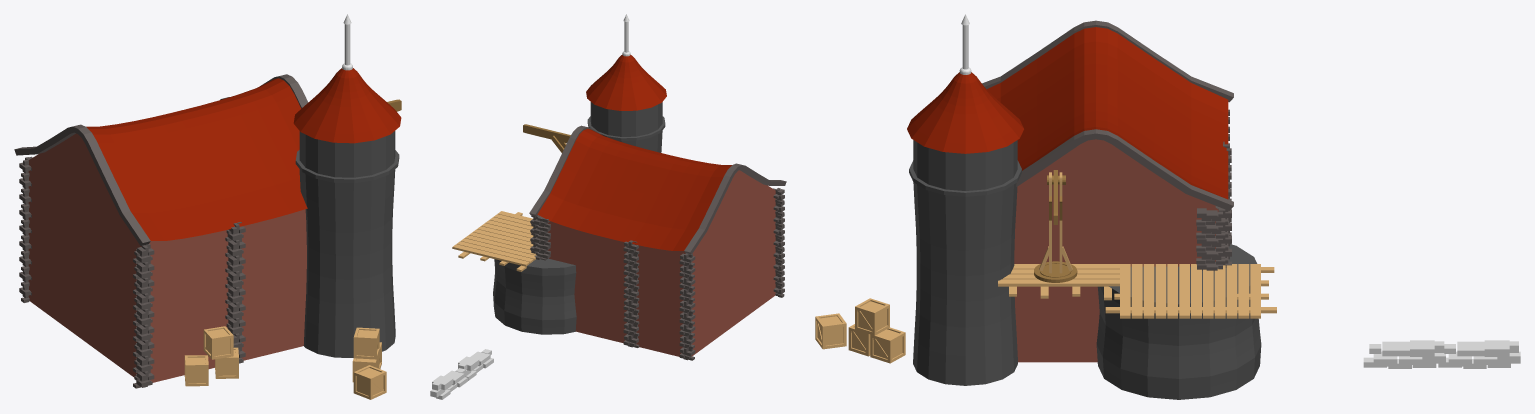
Rendered from Storage_building.fbx.
3 views of the same model, side by side, from view 1: azimuth 30°, elevation 25°; view 2: azimuth 150°, elevation 25°; view 3: azimuth 270°, elevation 25° (orthographic). The views are drawn at different scales.
Parts seen in each view (by area): view 1: Cube, Cube.001, Cylinder, Cylinder.004, Cube.002, Cube.008, Cube.009, Cube.007, Cube.014, Cube.017, Cube.012, Cube.015 (+2 smaller); view 2: Cube, Cube.001, Cylinder.002, Cylinder.004, Cube.018, Cylinder, Cube.002, Cube.006, Cube.007, Cube.004, Cube.008, Cube.003 (+1 smaller); view 3: Cube, Cylinder, Cube.001, Cylinder.002, Cube.018, Cylinder.004, Cube.002, Cube.004, Cube.011, Cube.005, Cube.012, Cube.013 (+3 smaller).
Part boxes in pixels (x1,y1,x2,y2): Cube: (28, 133, 306, 382); Cube.001: (86, 78, 307, 240); Cylinder: (295, 131, 399, 357); Cylinder.004: (293, 68, 401, 143); Cube.002: (14, 74, 308, 245); Cube.008: (133, 243, 154, 388); Cube.009: (225, 222, 245, 363); Cube.007: (19, 156, 32, 302); Cube.014: (353, 365, 386, 399); Cube.017: (203, 326, 233, 359); Cube.012: (353, 327, 379, 359); Cube.015: (184, 355, 208, 386); Cube: (547, 170, 775, 356); Cube.001: (537, 128, 731, 250); Cylinder.002: (493, 258, 576, 334); Cylinder.004: (586, 54, 666, 110); Cube.018: (452, 211, 536, 266); Cylinder: (587, 102, 665, 152); Cube.002: (529, 125, 786, 254); Cube.006: (623, 240, 639, 347); Cube.007: (679, 253, 695, 360); Cube.004: (430, 349, 493, 399); Cube.008: (773, 188, 784, 297); Cube.003: (534, 215, 550, 260); Cube: (1014, 139, 1218, 362); Cylinder: (909, 140, 1021, 385); Cube.001: (987, 27, 1228, 199); Cylinder.002: (1096, 244, 1261, 399); Cube.018: (1120, 264, 1260, 318); Cylinder.004: (907, 72, 1023, 153); Cube.002: (982, 20, 1233, 210); Cube.004: (1363, 340, 1520, 368); Cube.011: (998, 264, 1119, 286); Cube.005: (1196, 208, 1225, 271); Cube.012: (855, 298, 889, 335); Cube.013: (870, 327, 905, 363).
Size of the model in its own units: 719 by 735 by 1330.
